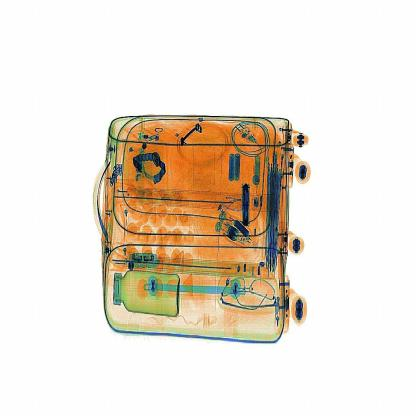scissors: (232, 177, 257, 234)
